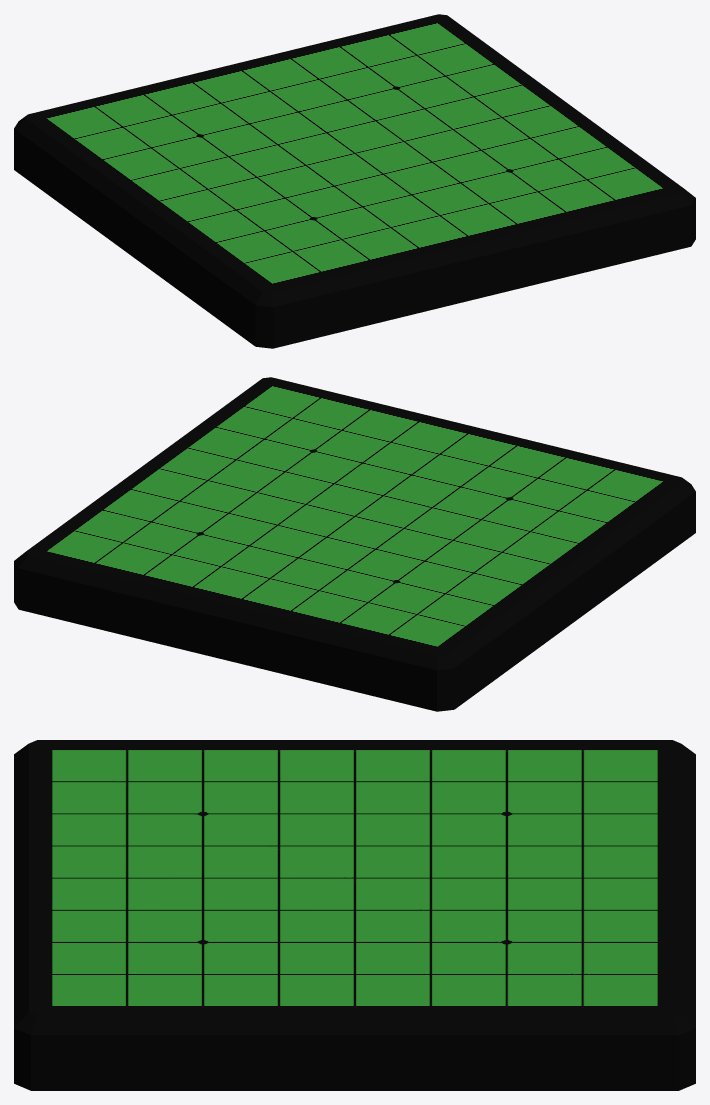
The model's file is board_model.fbx.
3 renders of one model, top to bottom at view 1: azimuth 30°, elevation 25°; view 2: azimuth 150°, elevation 25°; view 3: azimuth 270°, elevation 25°, orthographic. The views are drawn at different scales.
Parts seen in each view (by area): view 1: board; view 2: board; view 3: board.
Part boxes in pixels (box(x1,y1,x2,y2)): board: box(14, 14, 695, 348); board: box(14, 377, 695, 711); board: box(14, 740, 695, 1090).
Bounding box in the file's own units: 9 × 1 × 9.
1 material, 1 textured.
